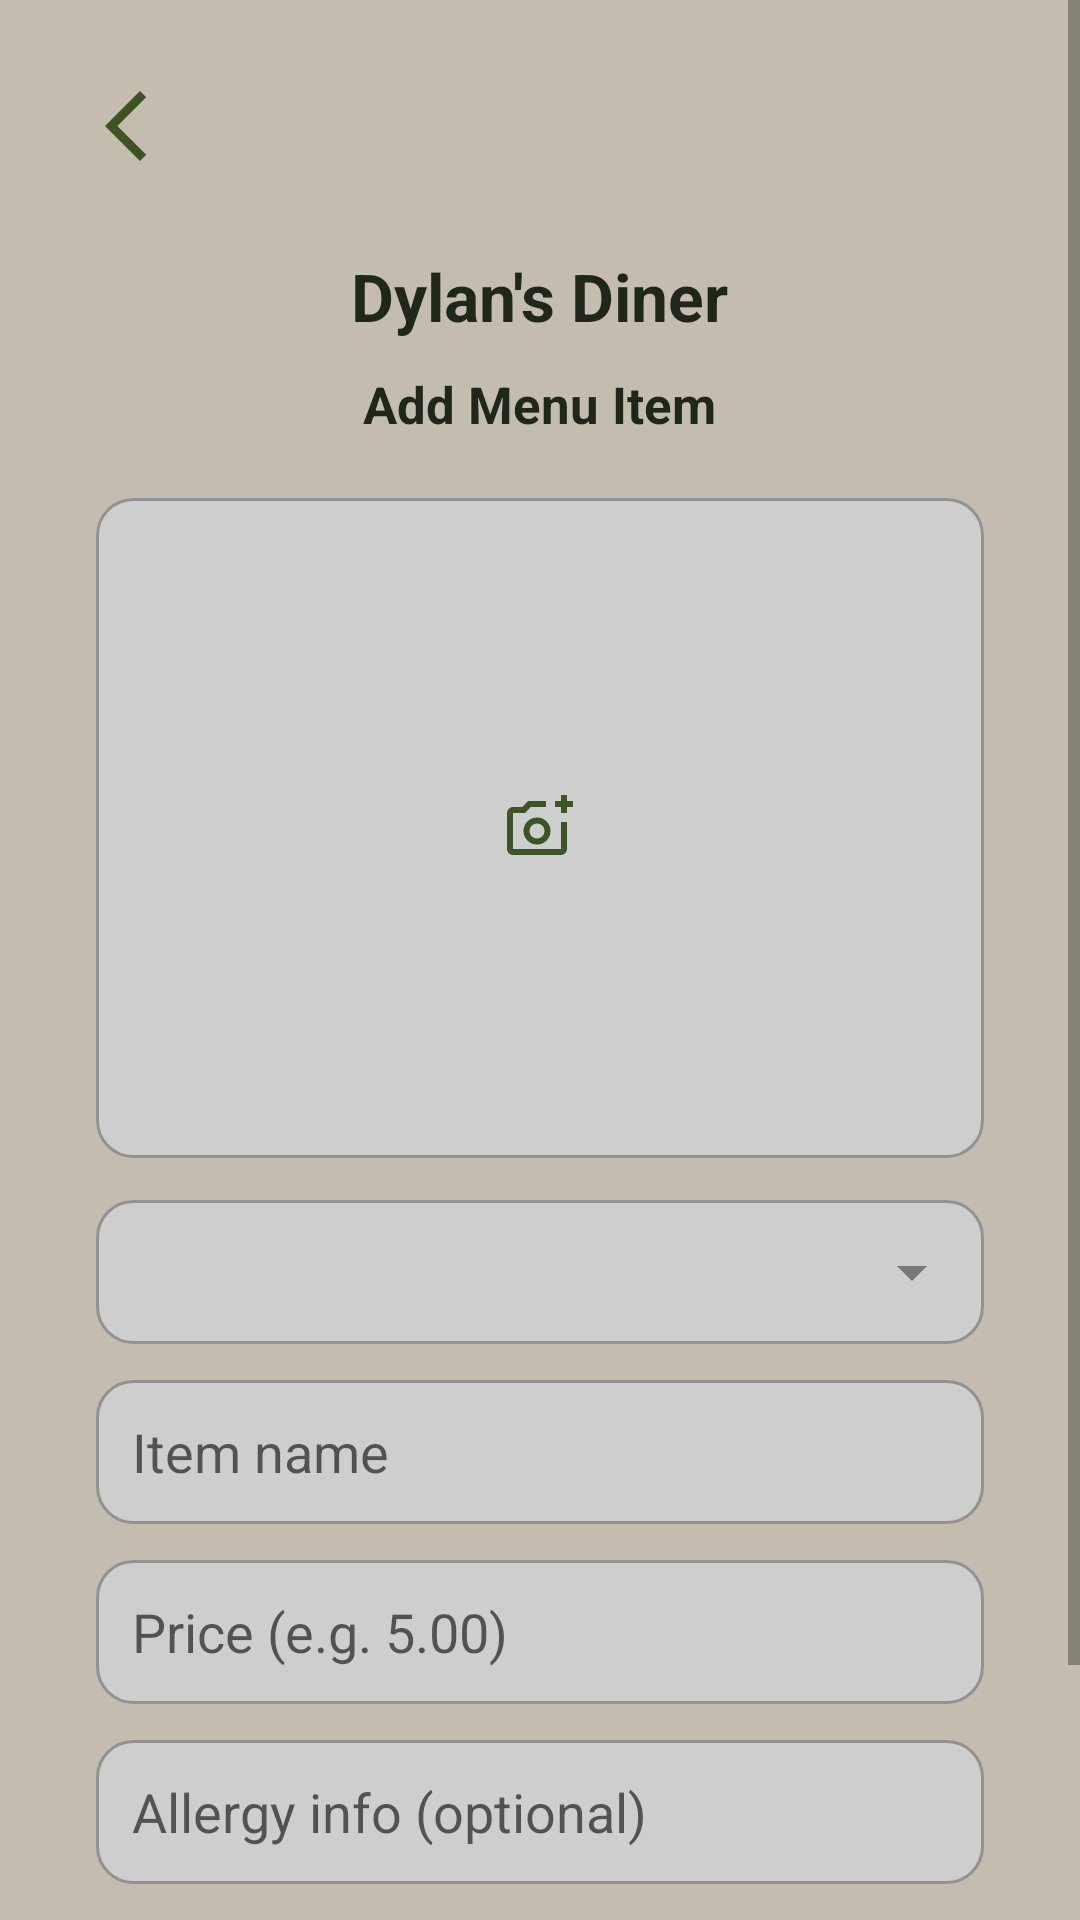

Icons on this 1080*1920 Android screen, each with its box as region(x1, y1, x2, y2):
Back: region(105, 91, 146, 161)
